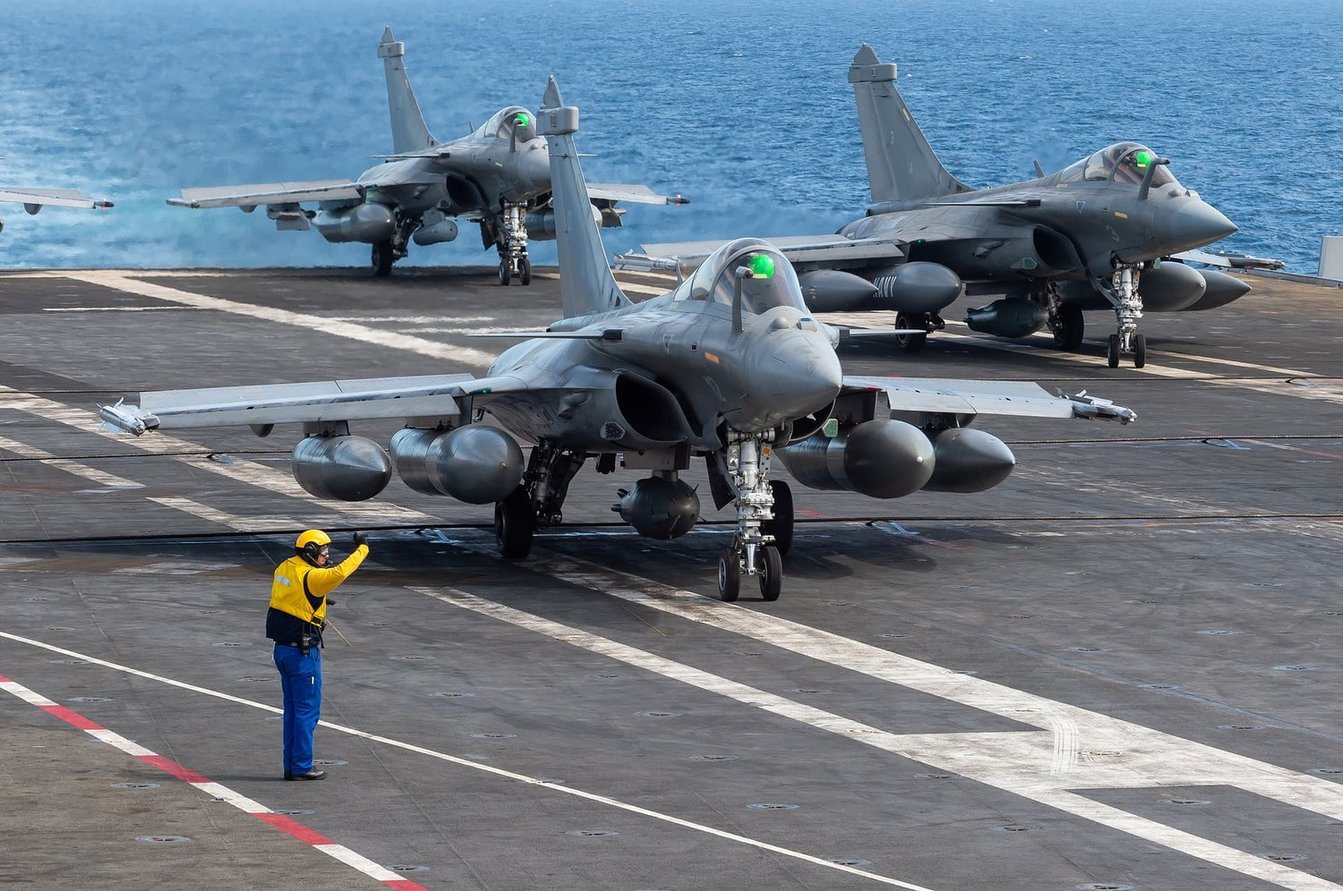Rafale: (92, 69, 1144, 603), (638, 38, 1255, 371), (163, 20, 684, 286)
